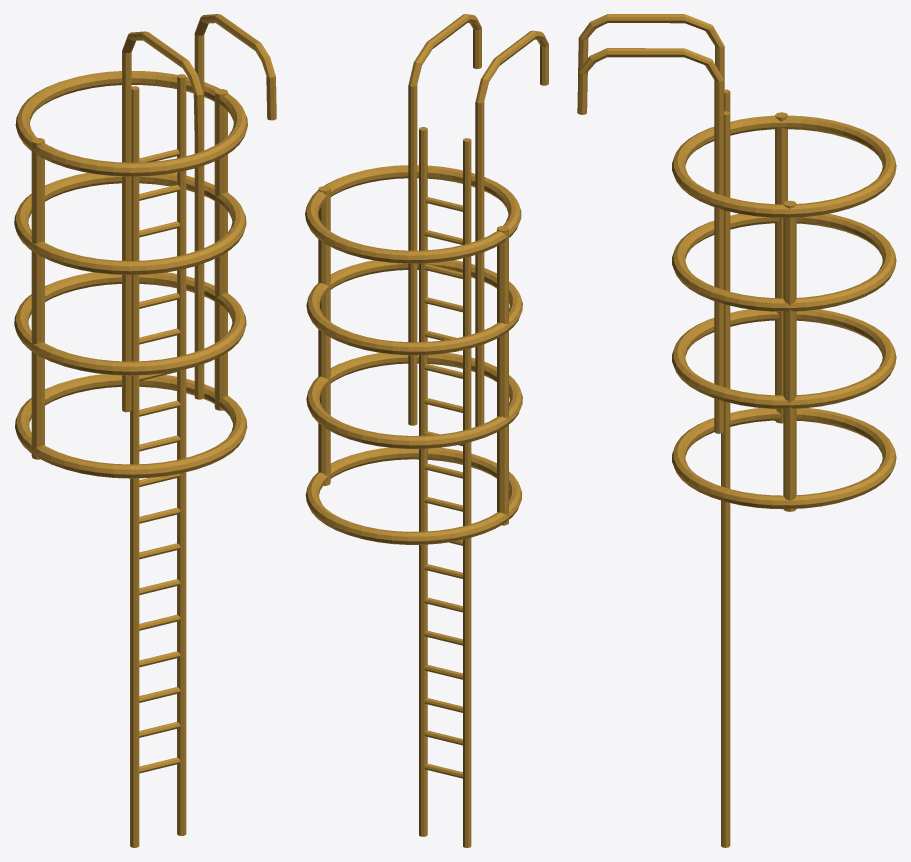
Rendered from tizi.fbx.
3 renders of one model, left to right at view 1: azimuth 30°, elevation 25°; view 2: azimuth 150°, elevation 25°; view 3: azimuth 270°, elevation 25°, orthographic. The views are drawn at different scales.
Visible parts, largest first — view 1: 柱体.001; view 2: 柱体.001; view 3: 柱体.001.
Part boxes in pixels (x1,y1,x2,y2): 柱体.001: [14, 14, 276, 847]; 柱体.001: [305, 14, 548, 847]; 柱体.001: [577, 14, 896, 847].
Bounding box in the file's own units: 76.8 × 302 × 108.
